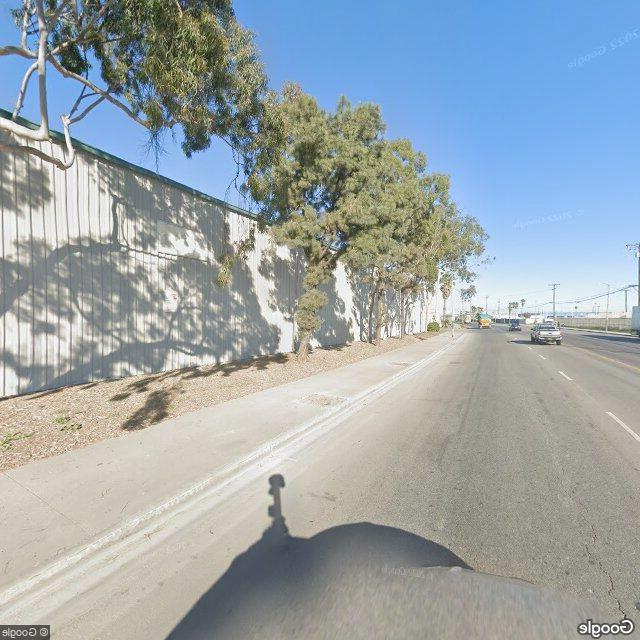pothole: (565, 477, 635, 625)
